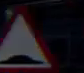Speed Breaker ahead: (0, 2, 53, 67)
